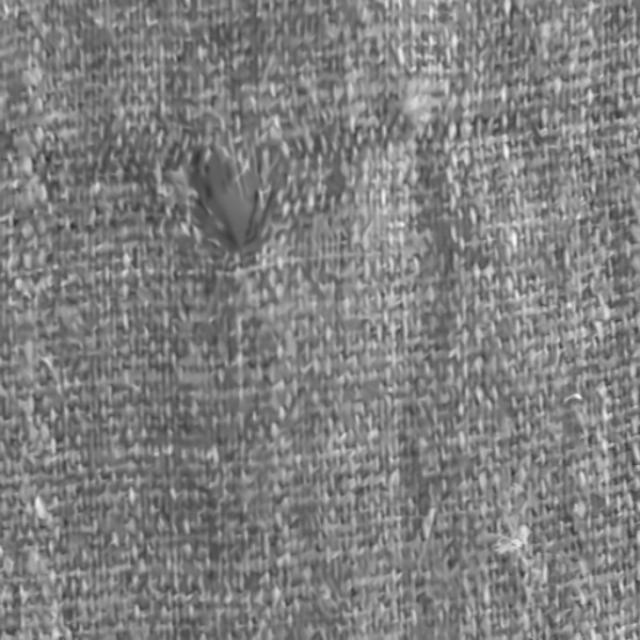other: (152, 120, 303, 288)
